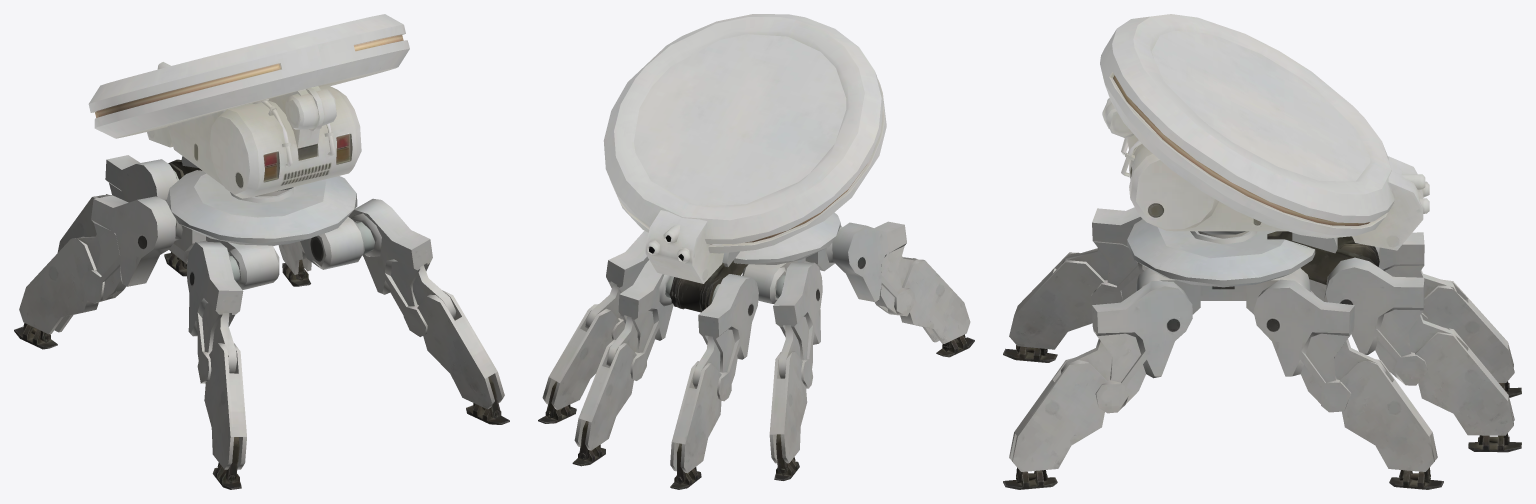
The model's file is kamdo.glb.
3 renders of one model, left to right at view 1: azimuth 30°, elevation 25°; view 2: azimuth 150°, elevation 25°; view 3: azimuth 270°, elevation 25°, orthographic. The views are drawn at different scales.
Visible parts, largest first — view 1: body.001, head.001, stripe.001; view 2: head.001, body.001; view 3: body.001, head.001, stripe.001.
Part boxes in pixels (x1,y1,x2,y2): body.001: (14,155,509,489); head.001: (88,14,409,198); stripe.001: (95,34,403,117); head.001: (603,14,886,283); body.001: (538,212,974,489); body.001: (1003,207,1521,489); head.001: (1100,14,1429,250); stripe.001: (1113,75,1369,225).
Size of the model in its own units: 2.86 by 3.68 by 4.53.
Materials: 3 (3 with a texture image).
